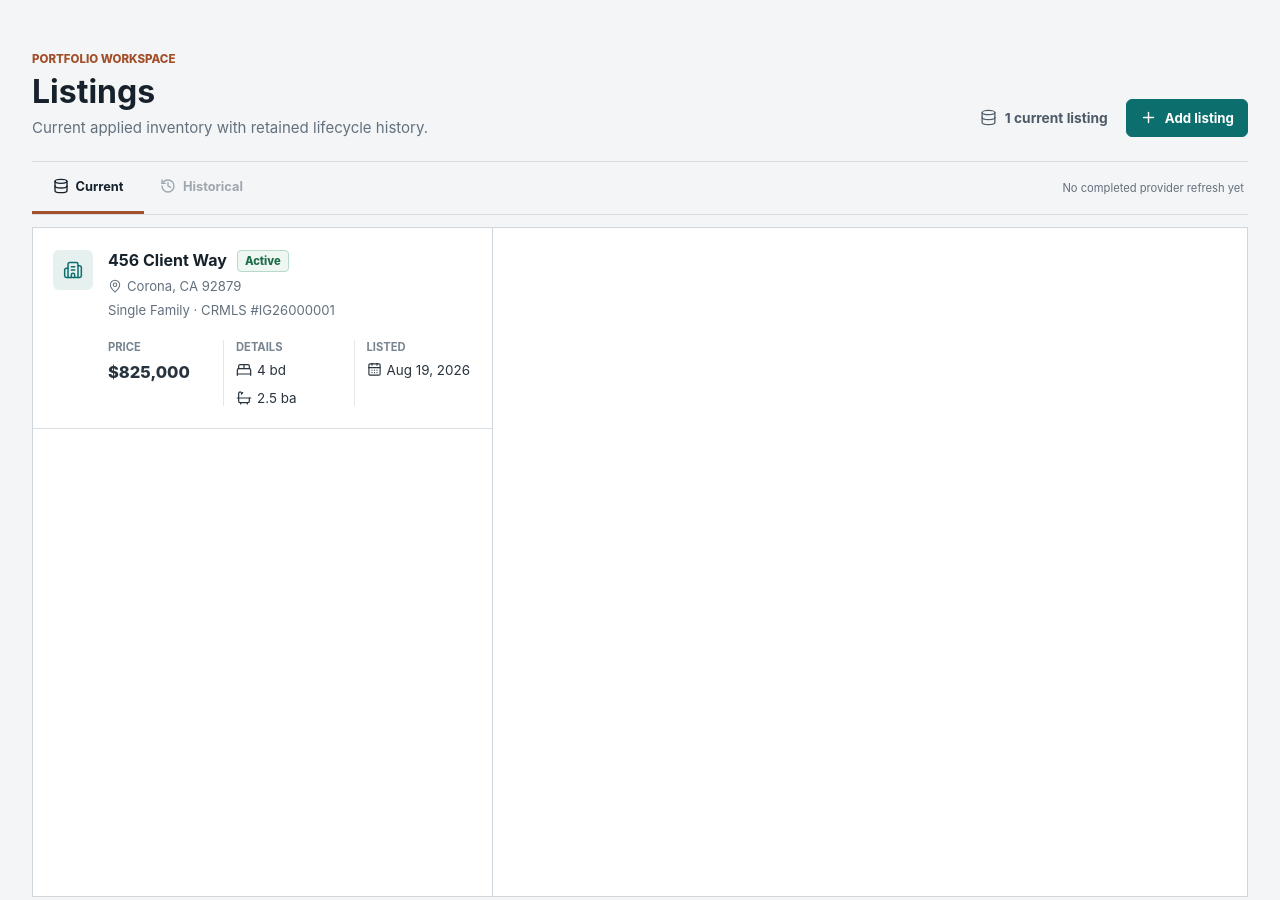
it: ListingsScreen › requires confirmation before archiving and removes the listing on success
Click the button "456 Client Way".
click(73, 270)  # box [33,228,492,429]
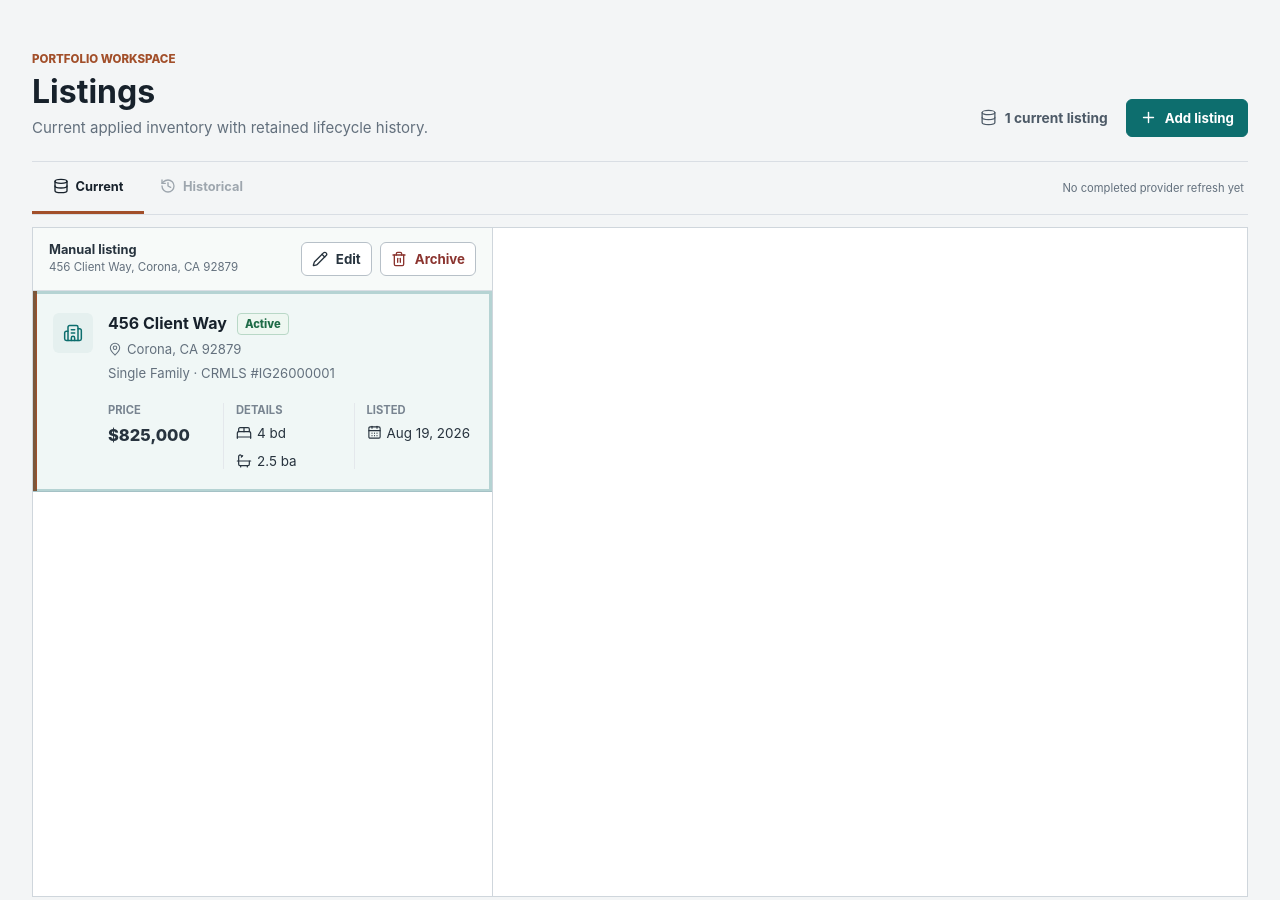
Click the button with aria-label "Archive listing".
click(428, 259)  # box [380,242,476,276]
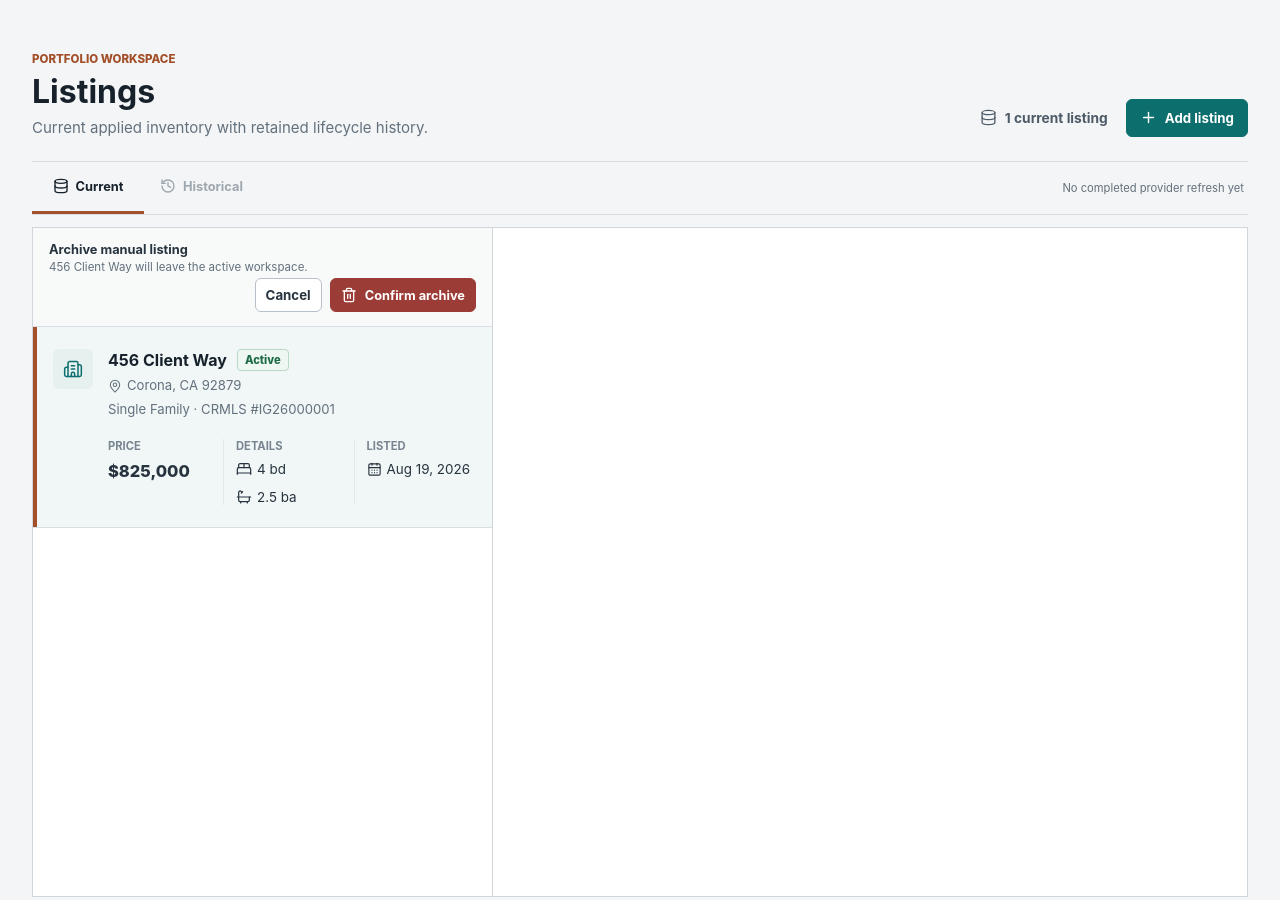
Now the dialog "Archive manual listing" is shown, box [49,242,476,312]
Click the button "Confirm archive".
click(403, 295)  # box [330,278,476,312]
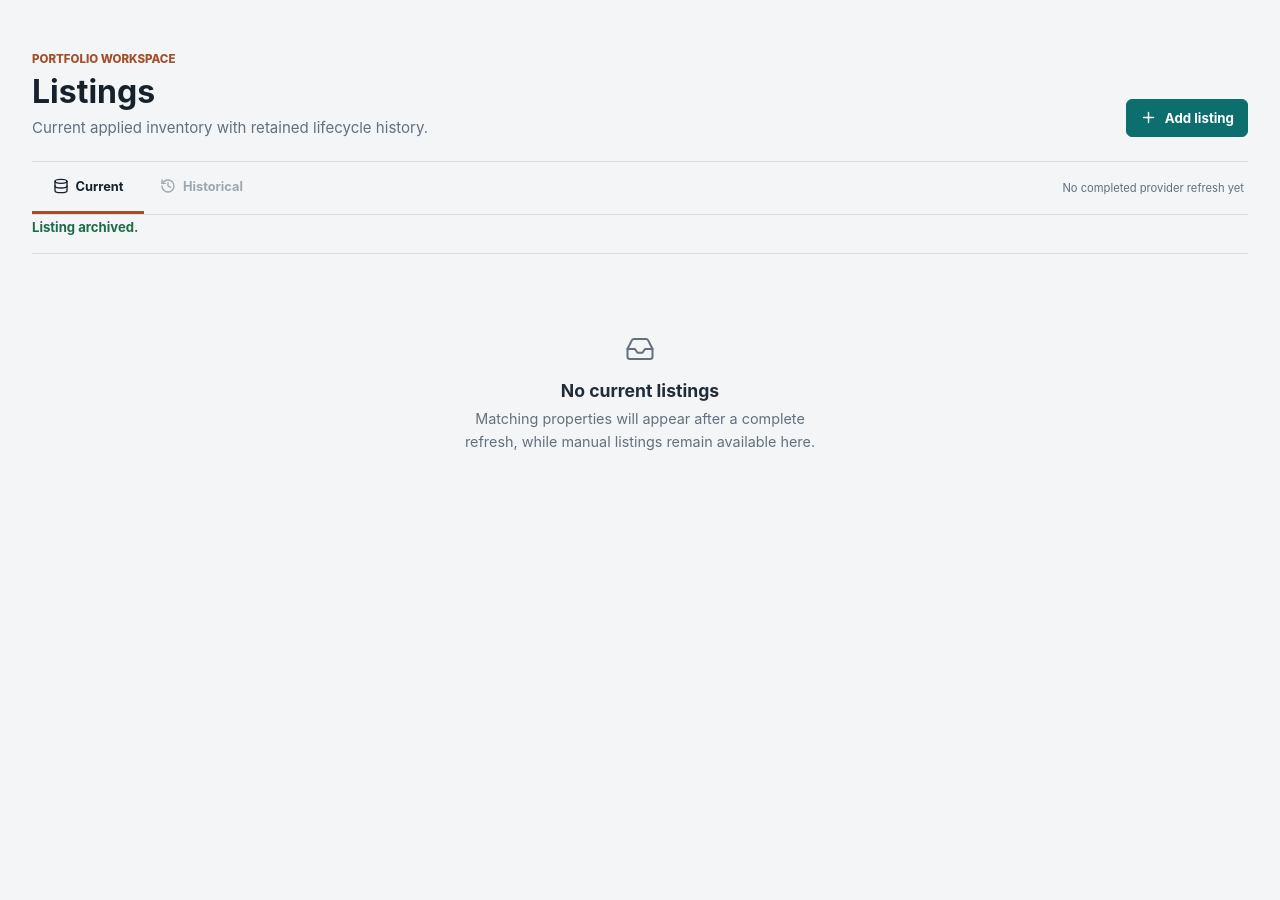
Now the text "Listing archived." is shown, box [32,219,138,235]
Now the text "456 Client Way" is gone
